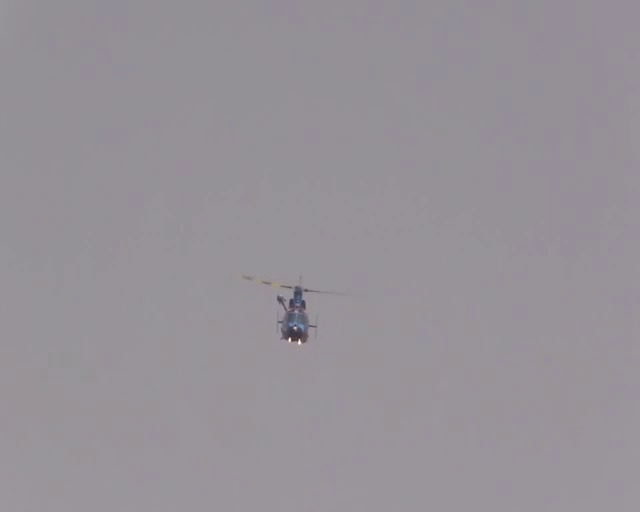HELICOPTER: (241, 272, 349, 345)
